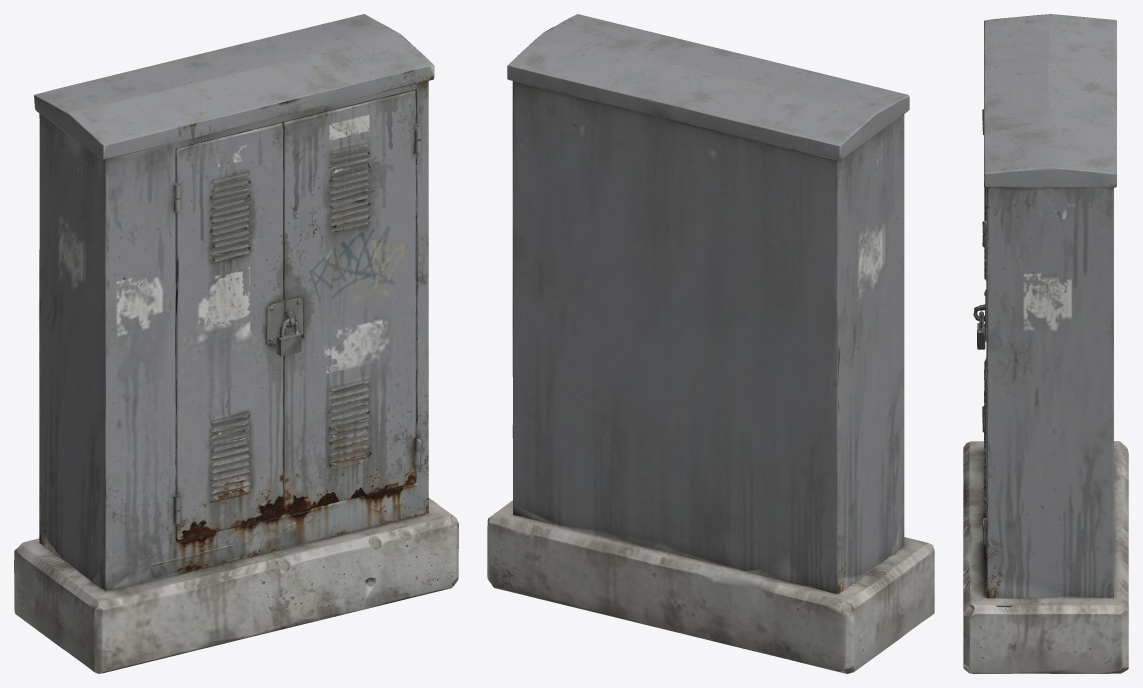
Rendered from armoire.glb.
3 views of the same model, side by side, from view 1: azimuth 30°, elevation 25°; view 2: azimuth 150°, elevation 25°; view 3: azimuth 270°, elevation 25° (orthographic). The views are drawn at different scales.
Size of the model in its own units: 1.38 by 1.9 by 0.5688.
1 material, 1 textured.
